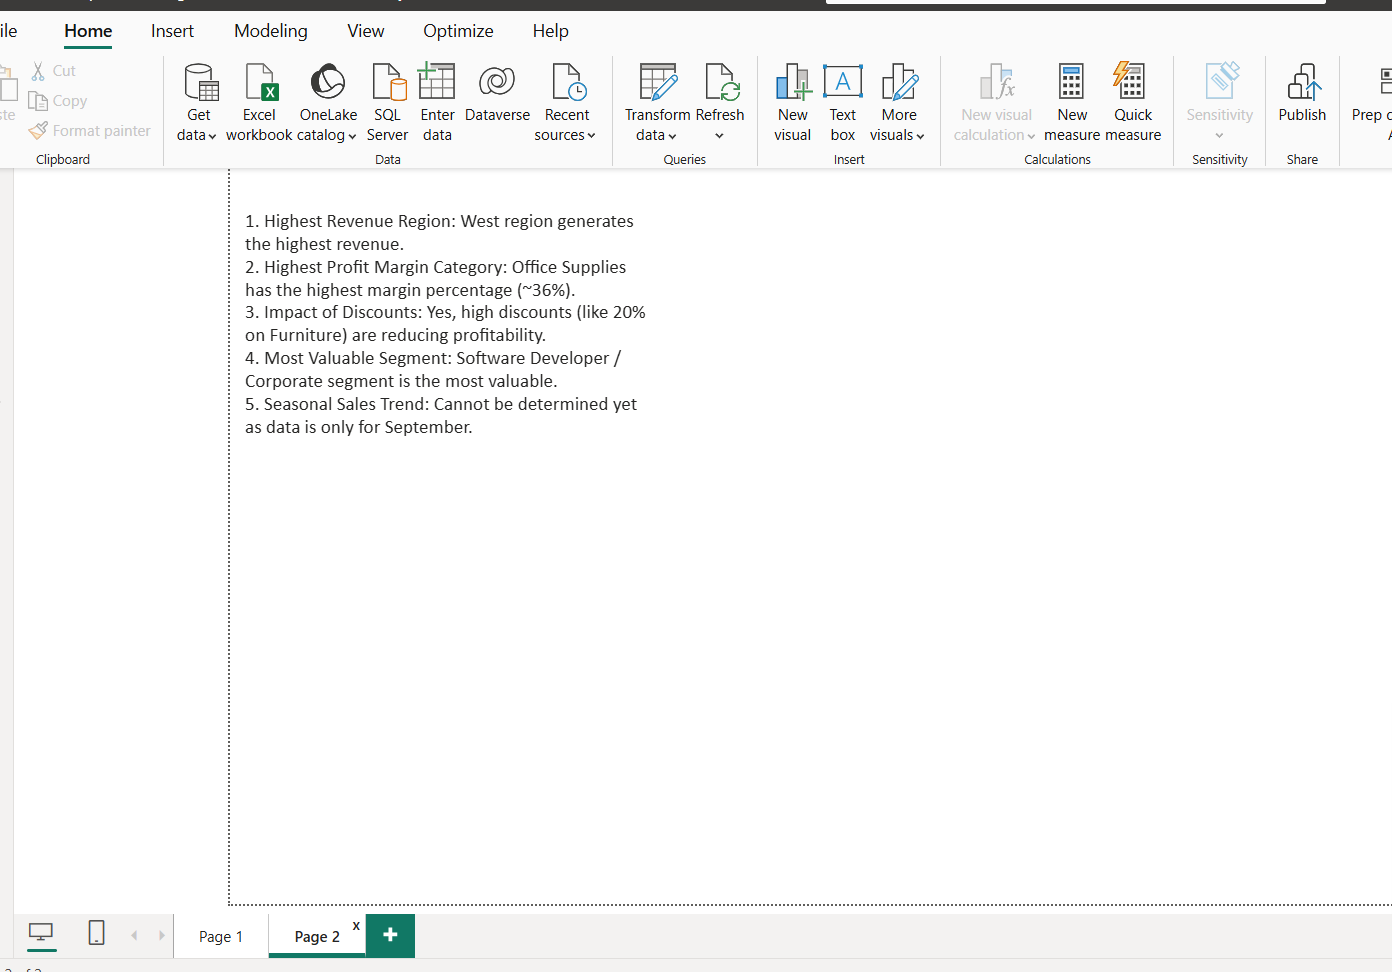

The dashboard page shown, as its layout file describes it:
{"tool":"powerbi","page":{"name":"Page 2","canvas":[1280,720],"ordinal":1},"visuals":[{"type":"textbox","box":[9.8,0,404.8,308.2],"z":0}]}

Visuals, with their boxes on the page's 1280x720 design canvas (x1, y1, x2, y2). These are canvas units, not pixel positions in the 1392x972 screenshot, which may show the page scaled, cropped or inside an application window:
textbox: locate(10, 0, 415, 308)
